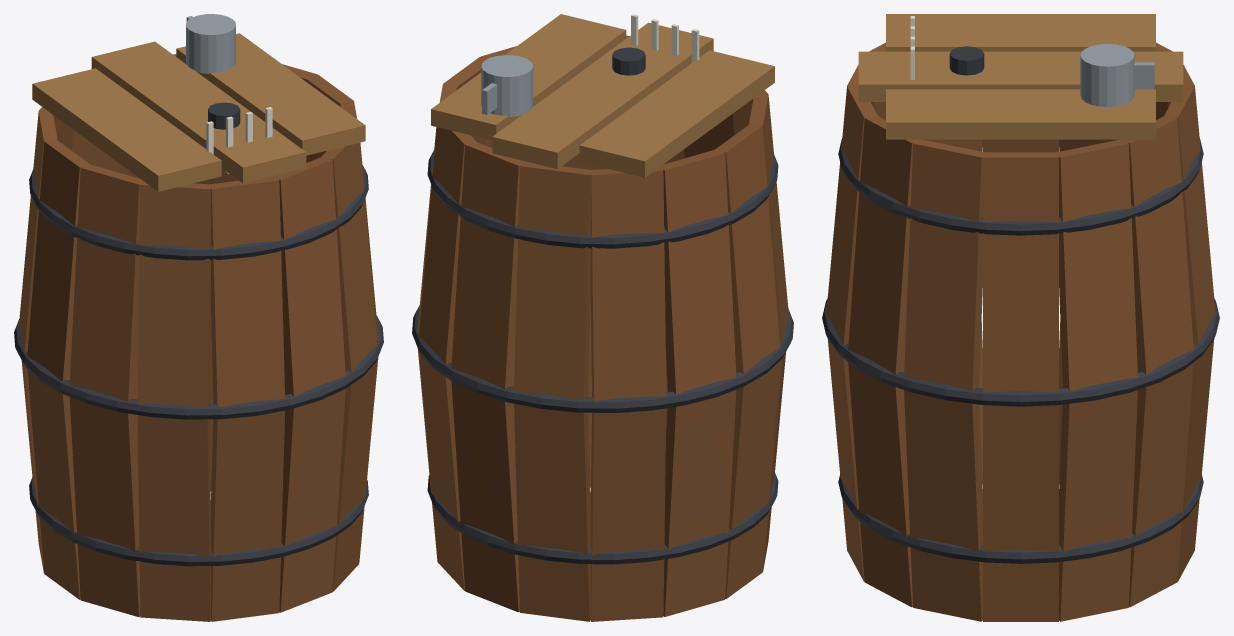
The model's file is prop_saloon_barrel.glb.
The picture shows the model from 3 angles, left to right: view 1: azimuth 30°, elevation 25°; view 2: azimuth 150°, elevation 25°; view 3: azimuth 270°, elevation 25°; orthographic projection. The views are drawn at different scales.
Parts seen in each view (by area): view 1: stave_11_1, stave_10_1, stave_10_0, stave_09_1, stave_11_0, stave_12_1, stave_09_0, lid_plank_1, stave_12_0, lid_plank_2, stave_08_1, lid_plank_3 (+13 smaller); view 2: stave_05_1, stave_06_1, stave_06_0, stave_07_1, stave_05_0, stave_04_1, stave_07_0, lid_plank_1, stave_04_0, lid_plank_2, stave_08_1, lid_plank_3 (+13 smaller); view 3: stave_01_1, stave_02_1, stave_14_1, stave_01_0, stave_02_0, stave_14_0, lid_plank_3, stave_03_1, stave_13_1, stave_03_0, stave_13_0, lid_plank_2 (+12 smaller).
Boxes of the visible parts, x1=… form: stave_11_1: x1=210, y1=176, x2=284, y2=407; stave_10_1: x1=137, y1=181, x2=210, y2=408; stave_10_0: x1=137, y1=415, x2=210, y2=621; stave_09_1: x1=69, y1=164, x2=143, y2=401; stave_11_0: x1=211, y1=410, x2=284, y2=621; stave_12_1: x1=273, y1=157, x2=345, y2=396; stave_09_0: x1=69, y1=397, x2=140, y2=616; lid_plank_1: x1=32, y1=68, x2=221, y2=191; stave_12_0: x1=279, y1=389, x2=345, y2=612; lid_plank_2: x1=91, y1=41, x2=306, y2=183; stave_08_1: x1=27, y1=140, x2=90, y2=381; lid_plank_3: x1=176, y1=33, x2=365, y2=155; stave_05_1: x1=514, y1=161, x2=591, y2=400; stave_06_1: x1=590, y1=167, x2=666, y2=401; stave_06_0: x1=590, y1=408, x2=666, y2=621; stave_07_1: x1=660, y1=149, x2=736, y2=394; stave_05_0: x1=514, y1=403, x2=590, y2=621; stave_04_1: x1=451, y1=142, x2=525, y2=389; stave_07_0: x1=663, y1=389, x2=736, y2=616; lid_plank_1: x1=579, y1=50, x2=774, y2=177; stave_04_0: x1=451, y1=381, x2=519, y2=612; lid_plank_2: x1=492, y1=22, x2=713, y2=168; stave_08_1: x1=715, y1=125, x2=779, y2=373; lid_plank_3: x1=431, y1=14, x2=626, y2=140; stave_01_1: x1=983, y1=152, x2=1058, y2=392; stave_02_1: x1=1056, y1=139, x2=1137, y2=391; stave_14_1: x1=904, y1=139, x2=985, y2=391; stave_01_0: x1=983, y1=405, x2=1058, y2=621; stave_02_0: x1=1059, y1=390, x2=1137, y2=621; stave_14_0: x1=904, y1=390, x2=982, y2=621; lid_plank_3: x1=886, y1=89, x2=1155, y2=139; stave_03_1: x1=1121, y1=116, x2=1193, y2=374; stave_13_1: x1=848, y1=116, x2=920, y2=374; stave_03_0: x1=1129, y1=362, x2=1193, y2=607; stave_13_0: x1=848, y1=362, x2=912, y2=607; lid_plank_2: x1=858, y1=51, x2=1183, y2=101.
Size of the model in its own units: 0.736 by 1.07 by 0.736.
